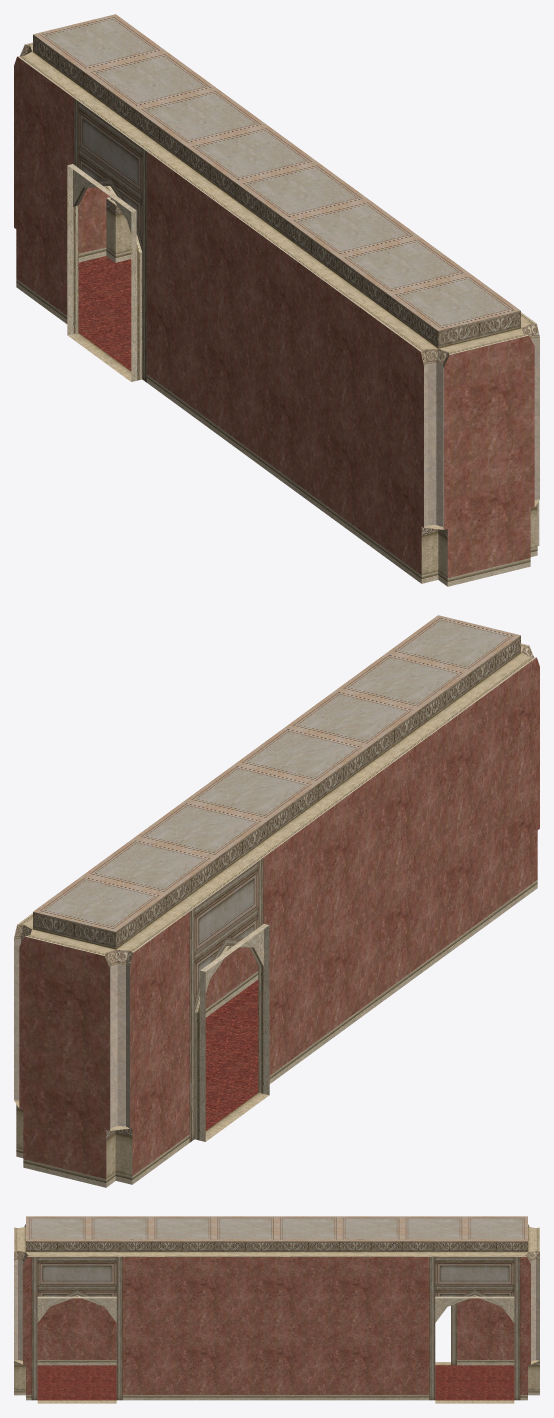
File: ply_nboo_house_sm_s02_fp1_r2_hall_mesh_r2.fbx
The picture shows the model from 3 angles, top to bottom: view 1: azimuth 30°, elevation 25°; view 2: azimuth 150°, elevation 25°; view 3: azimuth 270°, elevation 25°; orthographic projection. The views are drawn at different scales.
Parts seen in each view (by area): view 1: mesh_node; view 2: mesh_node; view 3: mesh_node.
Part boxes in pixels (x1,y1,x2,y2): mesh_node: (14,14,539,586); mesh_node: (14,615,539,1187); mesh_node: (14,1216,539,1403).
Size of the model in its own units: 2.5 by 4.3 by 13.3.
